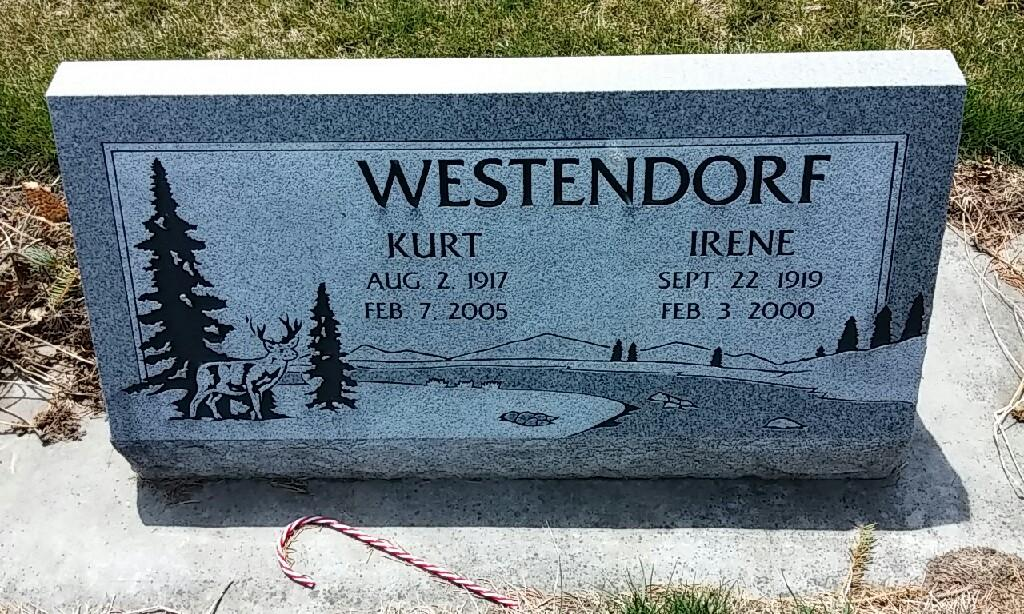upright: (45, 49, 965, 476)
